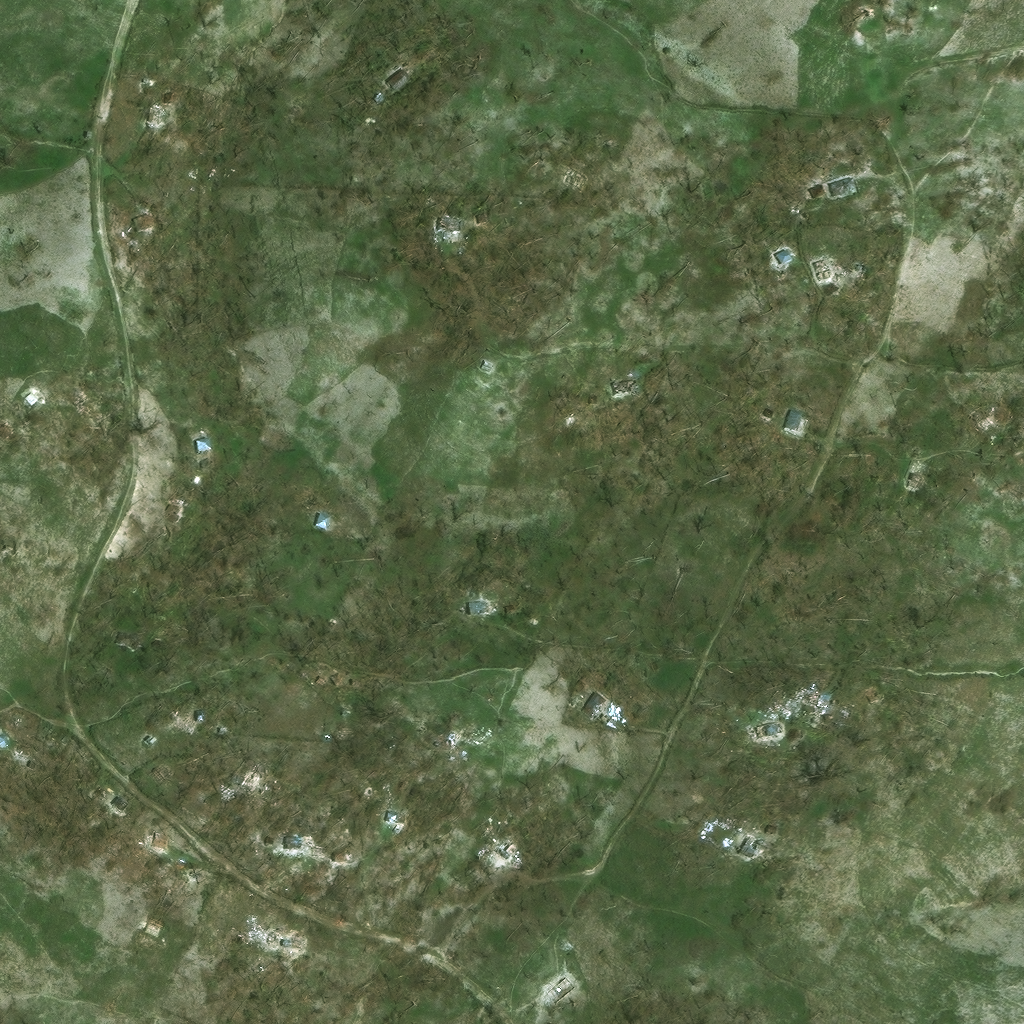destroyed: (543, 975, 576, 1005), (865, 207, 898, 235), (729, 538, 754, 561), (154, 760, 177, 782), (438, 216, 464, 231), (135, 620, 157, 637), (65, 397, 81, 418), (428, 738, 446, 756), (328, 962, 345, 979), (263, 929, 278, 946), (501, 838, 518, 853), (258, 413, 274, 428), (239, 774, 253, 789), (151, 104, 164, 119), (824, 282, 838, 295), (98, 783, 110, 795), (993, 411, 1004, 424), (15, 745, 29, 755), (798, 700, 811, 710), (173, 624, 184, 634), (385, 786, 396, 796), (193, 756, 204, 765), (304, 853, 316, 860), (509, 868, 517, 878), (594, 391, 603, 399), (786, 732, 793, 742), (171, 89, 179, 97), (294, 843, 304, 849), (236, 931, 244, 938), (323, 862, 333, 867), (777, 712, 783, 718)
major_damage: (592, 684, 617, 710), (616, 374, 643, 391), (739, 835, 758, 857), (809, 260, 827, 280), (373, 817, 392, 829), (277, 838, 292, 852), (762, 723, 776, 736)
minor_damage: (782, 407, 801, 432), (398, 61, 420, 82), (834, 174, 859, 191), (139, 207, 160, 226), (150, 832, 170, 850), (486, 589, 507, 602), (114, 794, 130, 810), (912, 471, 927, 487), (335, 665, 350, 679), (815, 179, 831, 192), (187, 714, 199, 727), (852, 697, 864, 709), (146, 734, 156, 744), (475, 214, 484, 223), (262, 841, 268, 847), (813, 719, 818, 726)
no_damage: (326, 501, 345, 515), (777, 248, 793, 262)
unclassified: (180, 497, 192, 507)
